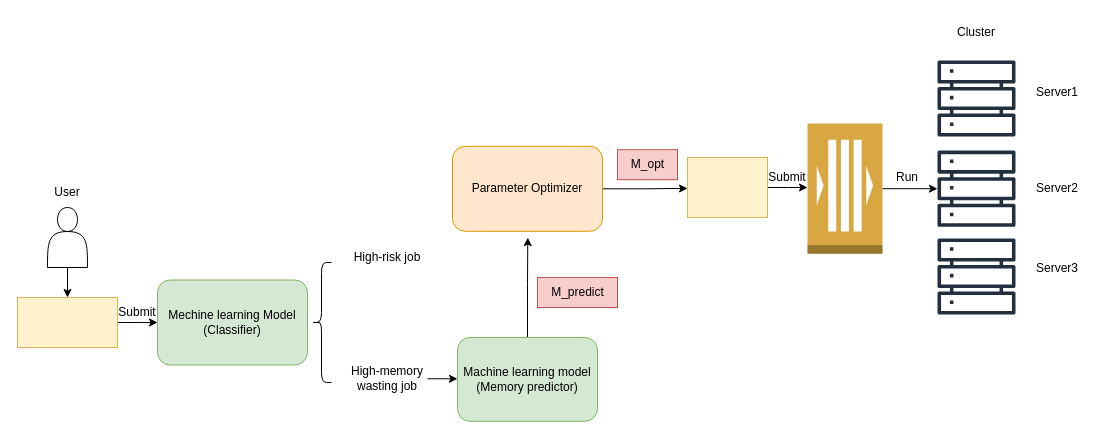
Image size: 1105x439. Some labels were removed from this diagram. The shapes that lost their labels are listed below. From the top down, each one's centre as x and y in pixels, then its label:
At point (727, 187): "Updated job".
At point (67, 322): "New job".
